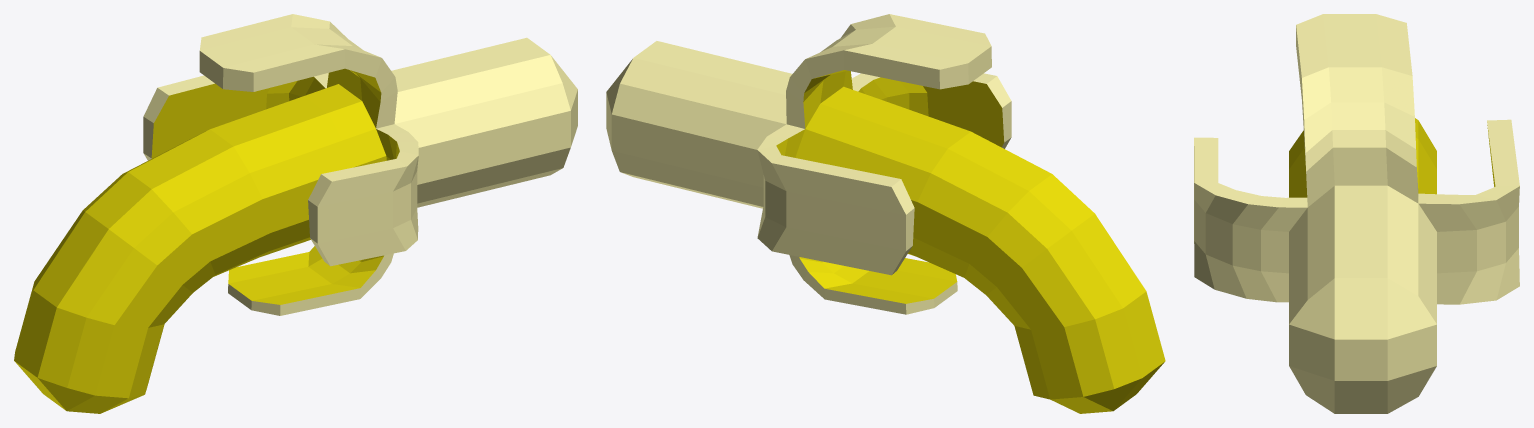
The model's file is BananaGun.fbx.
The picture shows the model from 3 angles, left to right: view 1: azimuth 30°, elevation 25°; view 2: azimuth 150°, elevation 25°; view 3: azimuth 270°, elevation 25°; orthographic projection. The views are drawn at different scales.
Visible parts, largest first — view 1: Cube; view 2: Cube; view 3: Cube.
Part boxes in pixels (x1,y1,x2,y2): Cube: (14,14,577,413); Cube: (606,14,1165,413); Cube: (1194,14,1519,413).
Size of the model in its own units: 2654 by 1507 by 1229.
